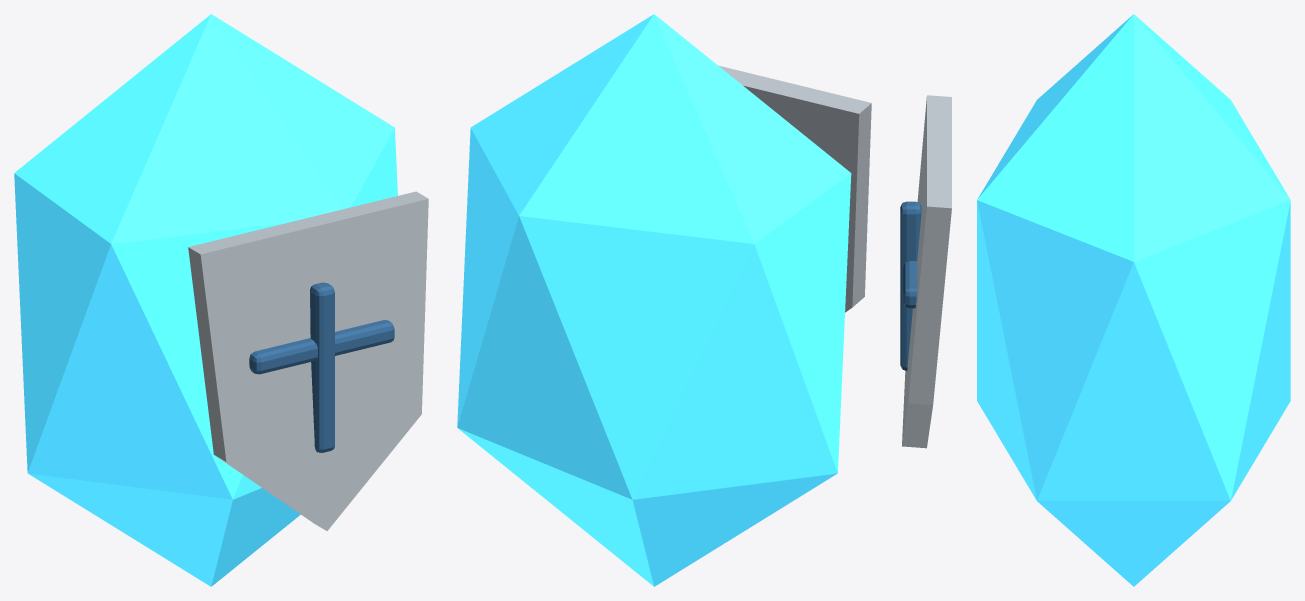
File: defenseUp.glb
3 renders of one model, left to right at view 1: azimuth 30°, elevation 25°; view 2: azimuth 150°, elevation 25°; view 3: azimuth 270°, elevation 25°, orthographic.
Parts seen in each view (by area): view 1: DefenseUpgrade_Gem, DefenseUpgrade_Shield, DefenseUpgrade_CrossV, DefenseUpgrade_CrossH; view 2: DefenseUpgrade_Gem, DefenseUpgrade_Shield; view 3: DefenseUpgrade_Gem, DefenseUpgrade_Shield, DefenseUpgrade_CrossV, DefenseUpgrade_CrossH.
Boxes of the visible parts, box(x1,y1,x2,y2) form: DefenseUpgrade_Gem: box(14, 14, 397, 586); DefenseUpgrade_Shield: box(188, 191, 428, 530); DefenseUpgrade_CrossV: box(310, 282, 334, 452); DefenseUpgrade_CrossH: box(249, 320, 394, 374); DefenseUpgrade_Gem: box(457, 14, 851, 586); DefenseUpgrade_Shield: box(718, 65, 871, 312); DefenseUpgrade_Gem: box(977, 14, 1290, 586); DefenseUpgrade_Shield: box(902, 95, 951, 448); DefenseUpgrade_CrossV: box(900, 201, 921, 370); DefenseUpgrade_CrossH: box(903, 261, 917, 308).
Size of the model in its own units: 0.6762 by 1.01 by 0.6226.
